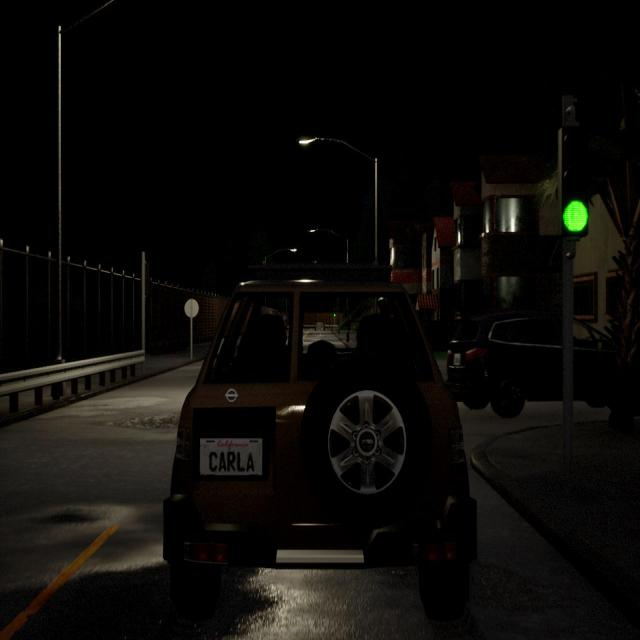Traffic_Signs: (184, 298, 199, 318)
Vehicle: (165, 266, 479, 620), (445, 315, 640, 426), (314, 319, 326, 333)
traffic_light: (562, 125, 590, 238), (334, 310, 336, 318)
